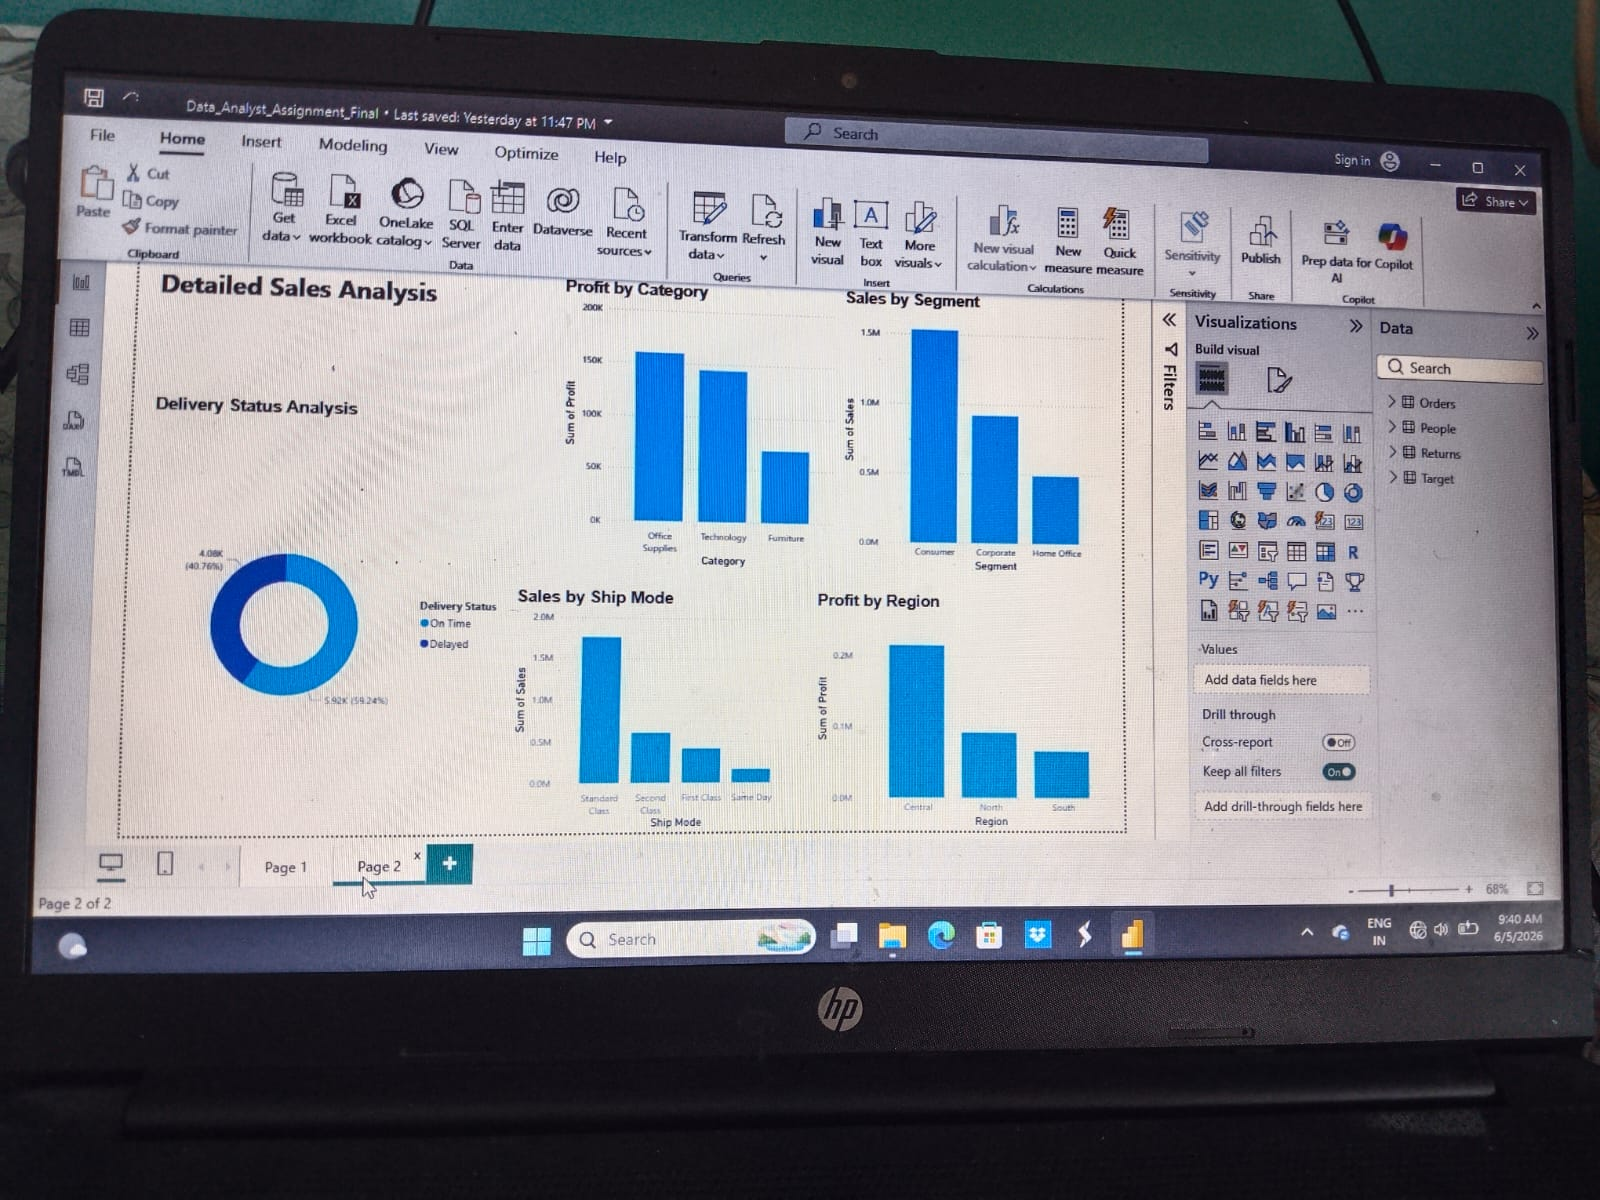

The page's visual inventory and layout, read from the dashboard file:
{"tool":"powerbi","page":{"name":"Page 2","canvas":[1280,720],"ordinal":1},"visuals":[{"type":"donutChart","title":"Delivery Status Analysis","fields":{"Category":["Orders.Delivery Status"],"Y":["CountNonNull(Orders.Order ID)"]},"box":[22,169.8,447.8,550.2],"z":0},{"type":"columnChart","title":"Profit by Category","fields":{"Category":["Orders.Category"],"Y":["Sum(Orders.Profit)"]},"box":[527.5,0,367.9,379.6],"z":1000},{"type":"clusteredColumnChart","title":"Sales by Segment","fields":{"Category":["Orders.Segment"],"Y":["Sum(Orders.Sales)"]},"box":[894.1,0,367.3,380.5],"z":2000},{"type":"clusteredColumnChart","title":"Sales by Ship Mode","fields":{"Category":["Orders.Ship Mode"],"Y":["Sum(Orders.Sales)"]},"box":[470.3,404.8,367.9,315.8],"z":3000},{"type":"clusteredColumnChart","title":"Profit by Region","fields":{"Category":["Orders.Region"],"Y":["Sum(Orders.Profit)"]},"box":[860.5,405.4,420,314.6],"z":4000},{"type":"textbox","box":[21.8,0,367.9,99.1],"z":5000}]}

Visuals, with their boxes on the page's 1280x720 design canvas (x1, y1, x2, y2). These are canvas units, not pixel positions in the 1600x1200 screenshot, which may show the page scaled, cropped or inside an application window:
"Delivery Status Analysis" donutChart: pyautogui.locateOnScreen(22, 170, 470, 720)
"Profit by Category" columnChart: pyautogui.locateOnScreen(528, 0, 895, 380)
"Sales by Segment" clusteredColumnChart: pyautogui.locateOnScreen(894, 0, 1261, 380)
"Sales by Ship Mode" clusteredColumnChart: pyautogui.locateOnScreen(470, 405, 838, 721)
"Profit by Region" clusteredColumnChart: pyautogui.locateOnScreen(860, 405, 1280, 720)
textbox: pyautogui.locateOnScreen(22, 0, 390, 99)
